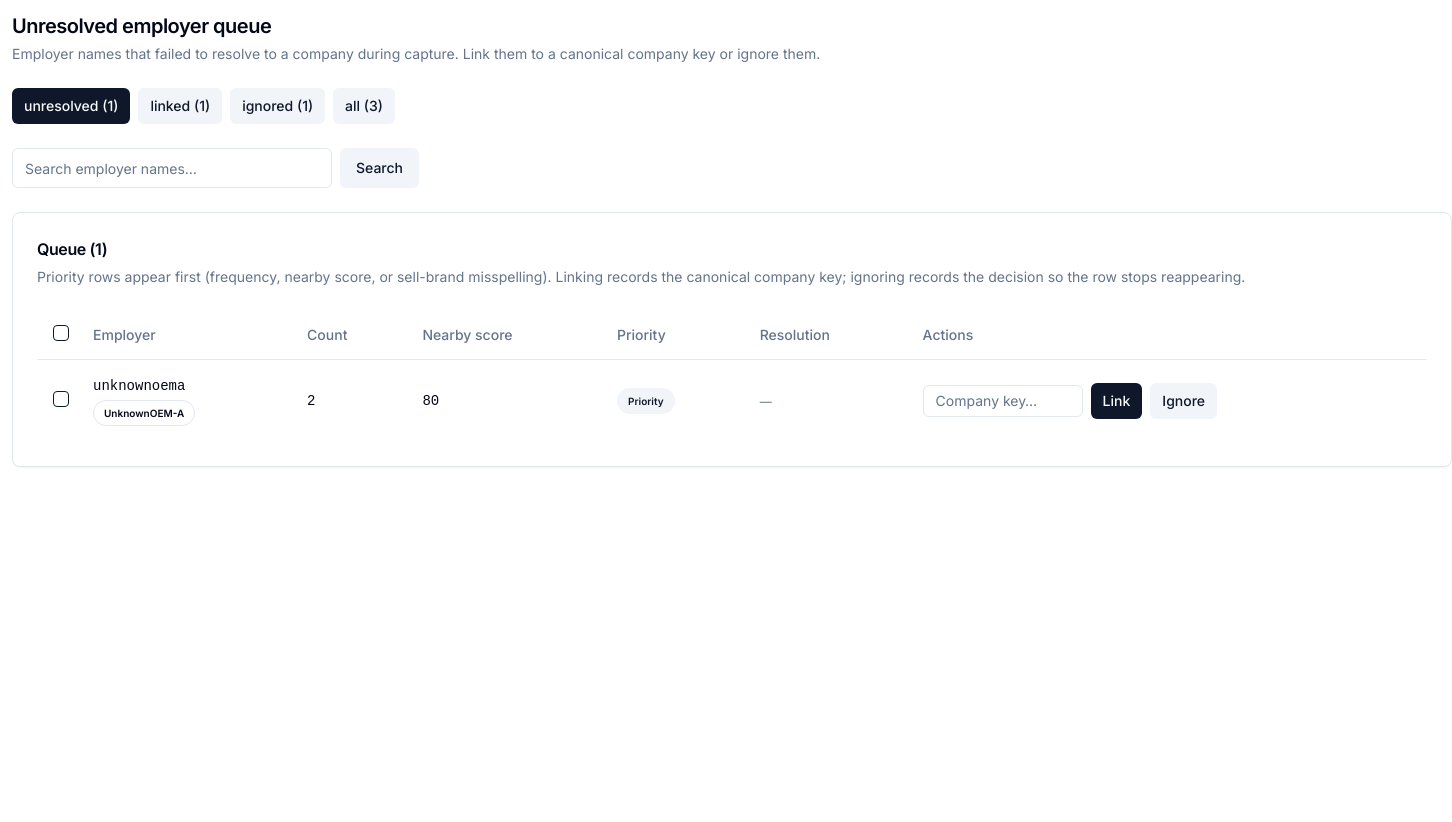
SystemSettingsUnresolvedQueuePage › bulk-links all selected rows and clears the selection
The image size is (1452, 822).
expect the row with test id "unresolved-queue-row-unknownoema" is shown: met, box [37, 359, 1427, 442]
Click the button with test id "unresolved-queue-tab-all" at (364, 106), box [333, 88, 395, 124]
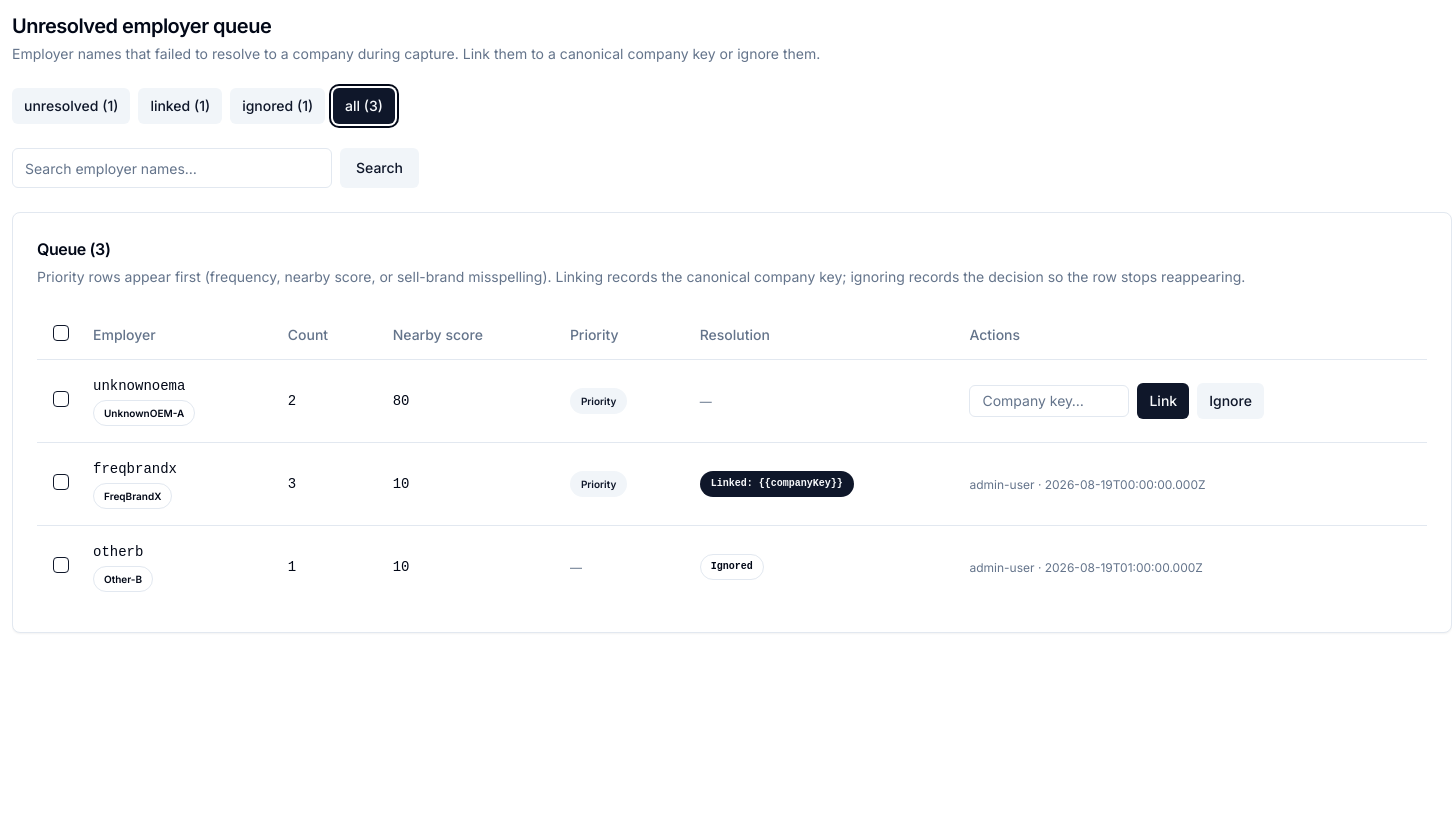
expect the row with test id "unresolved-queue-row-otherb" is shown: met, box [37, 525, 1427, 608]
Click the checkbox with test id "unresolved-queue-select-unknownoema" at (61, 398), box [53, 390, 69, 406]
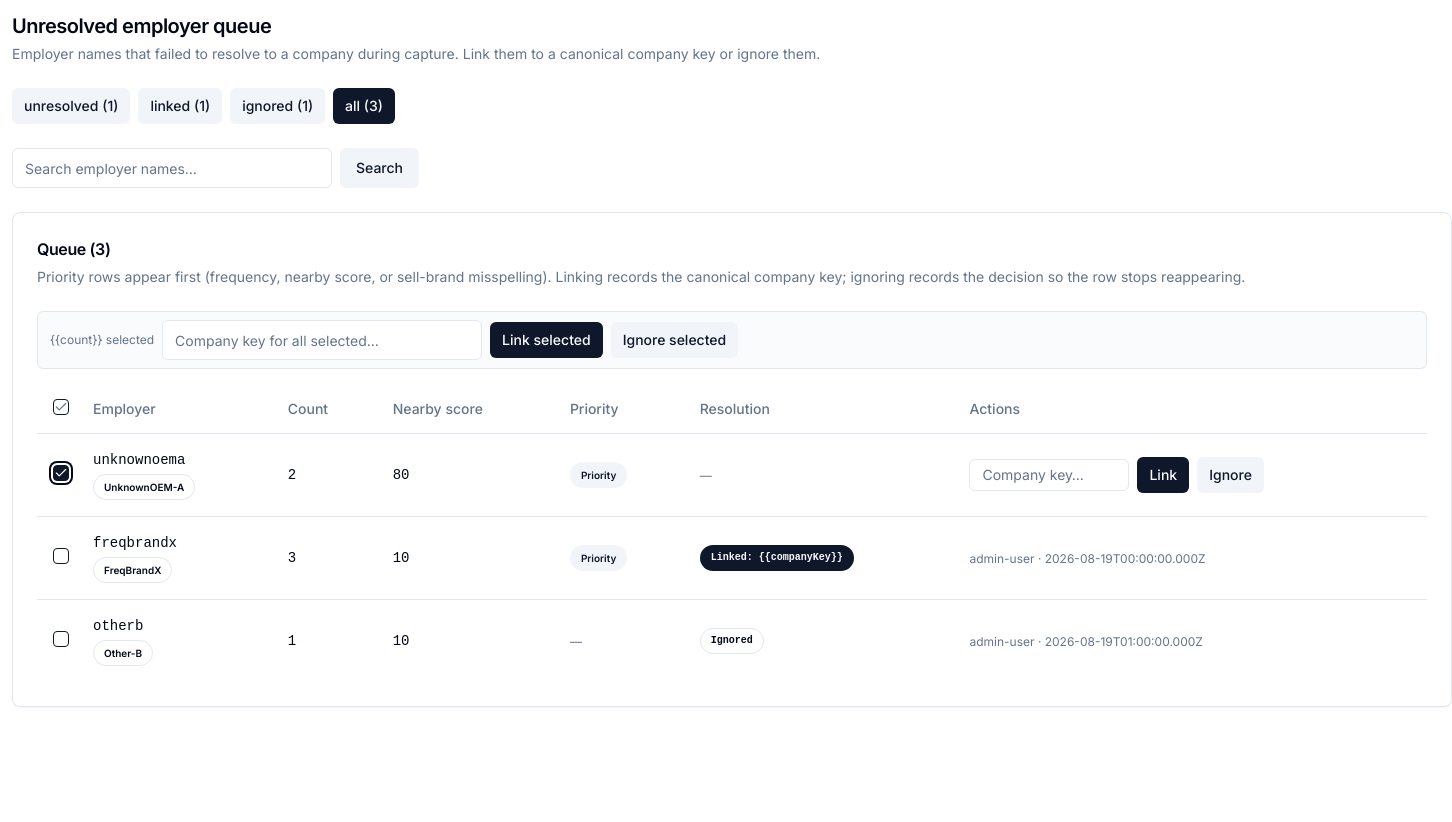
Click the checkbox with test id "unresolved-queue-select-otherb" at (61, 638), box [53, 630, 69, 646]
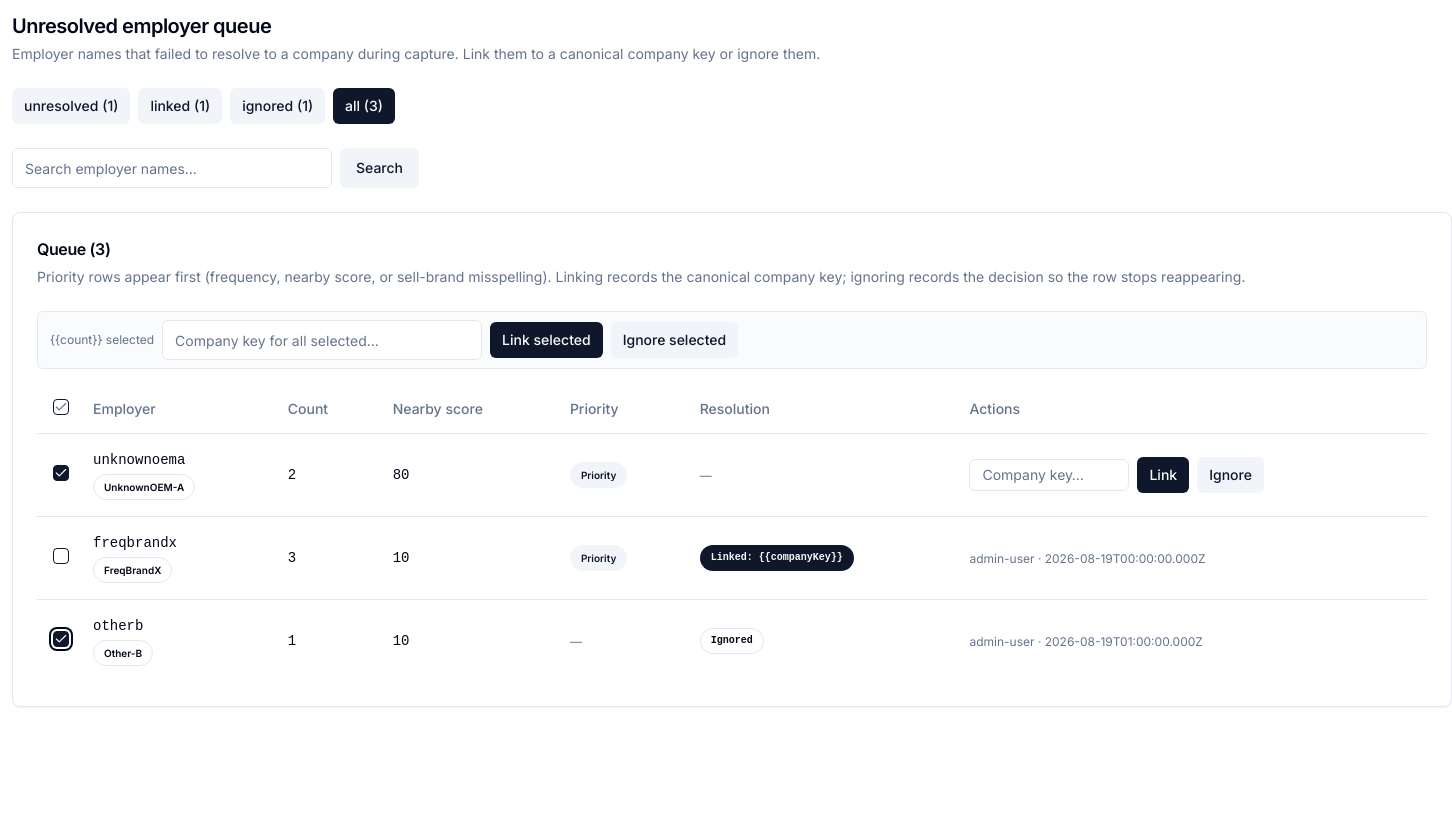
expect the element with test id "unresolved-queue-bulk-bar" shows "{{count}} selected": met, box [50, 332, 154, 347]
Type "polywell" into the field with test id "unresolved-queue-bulk-target" at (322, 340), box [162, 320, 482, 360]
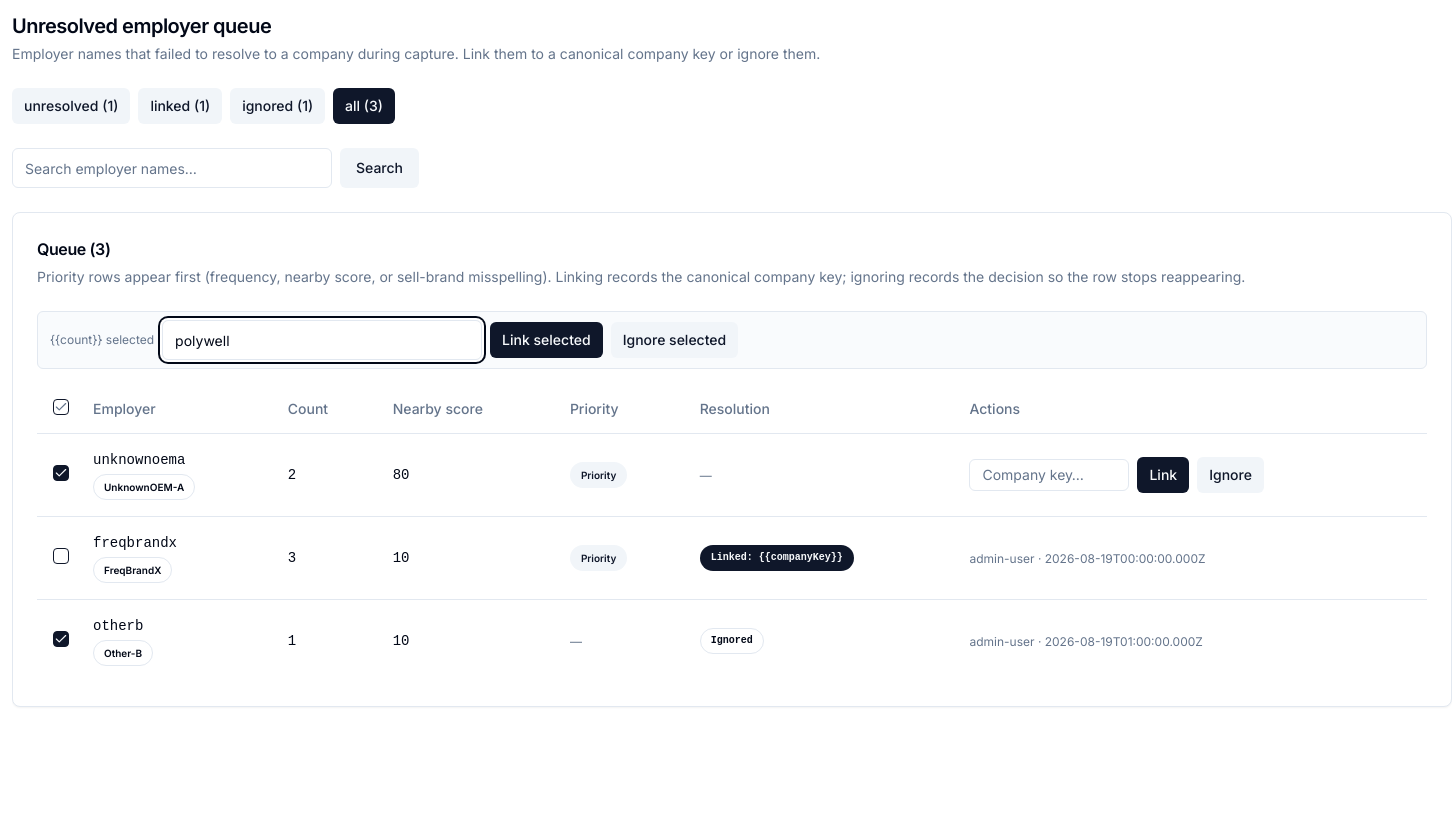
Click the button with test id "unresolved-queue-bulk-link" at (546, 340), box [490, 322, 603, 358]
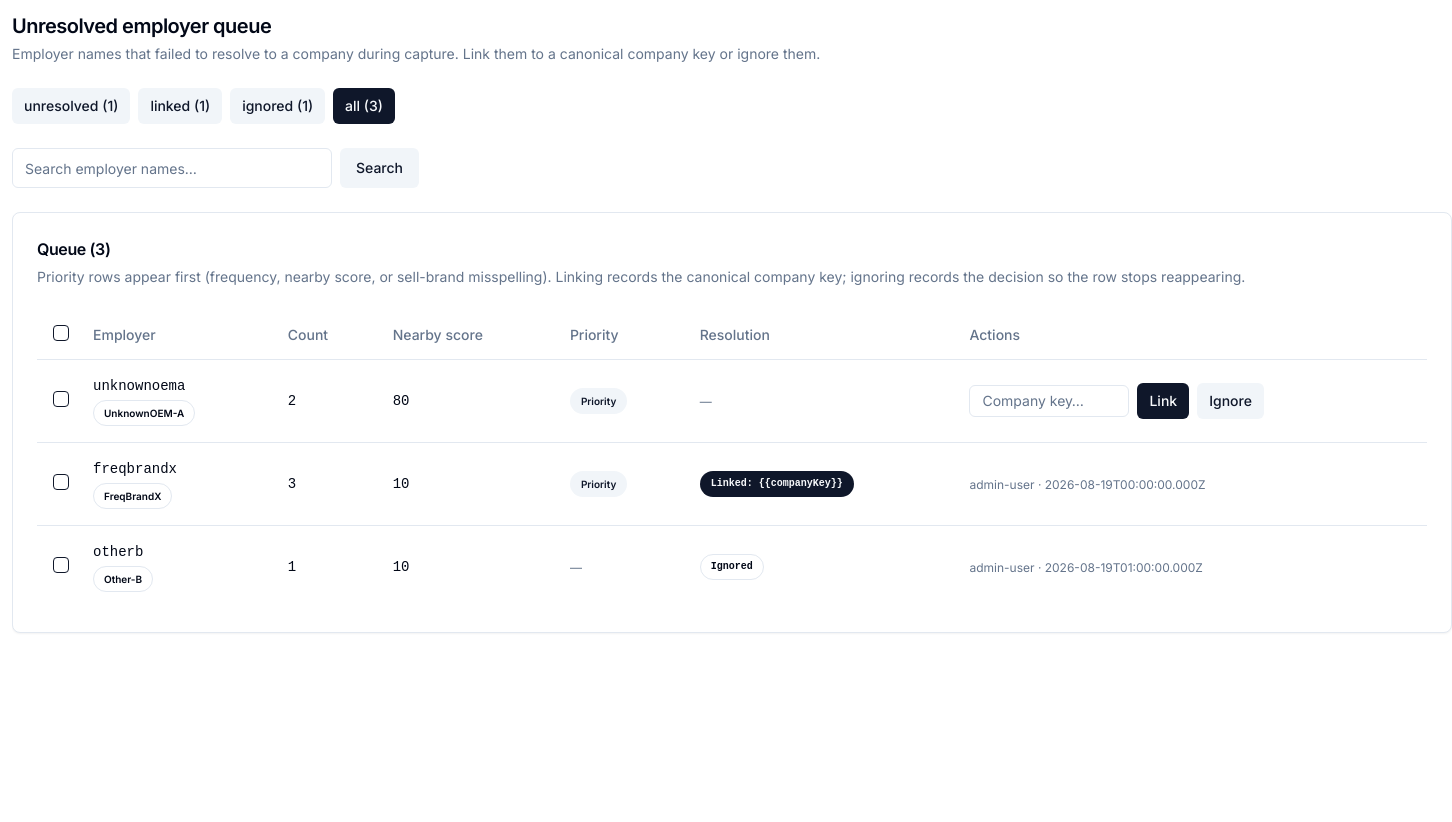
expect the element with test id "unresolved-queue-bulk-bar" is gone: met
